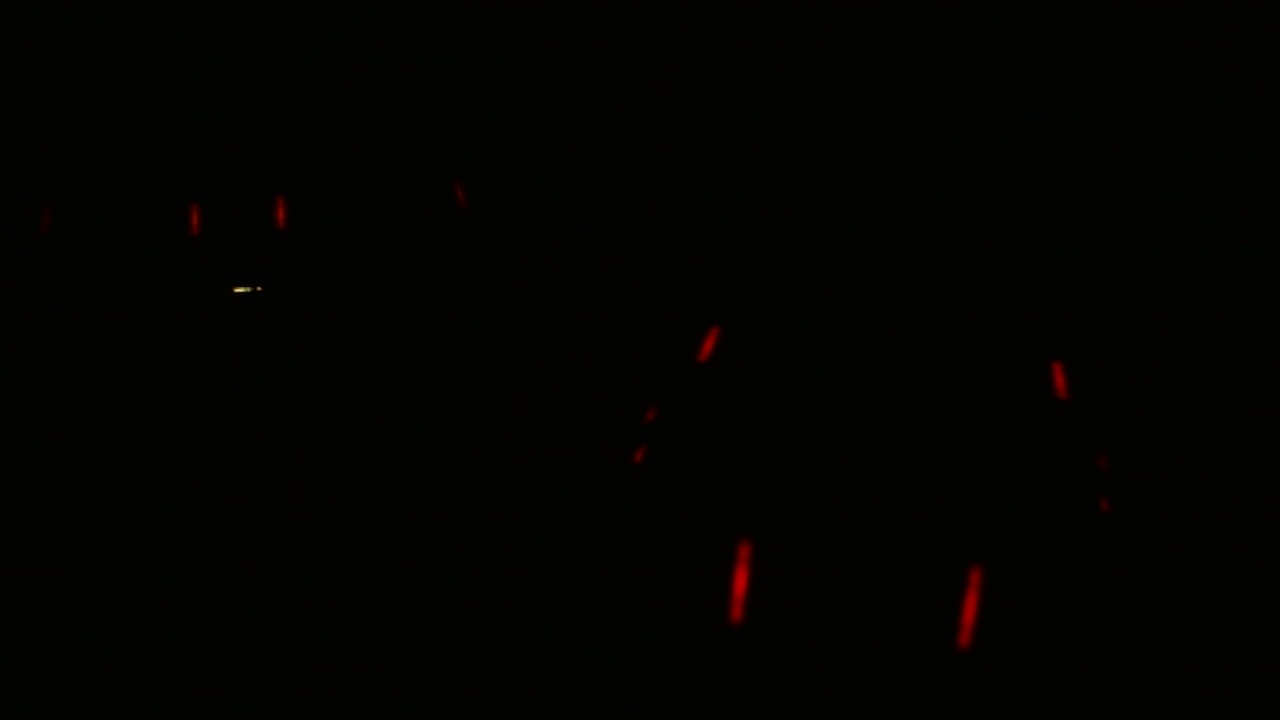pair1: (171, 184, 300, 253)
pair2: (721, 530, 991, 655)
